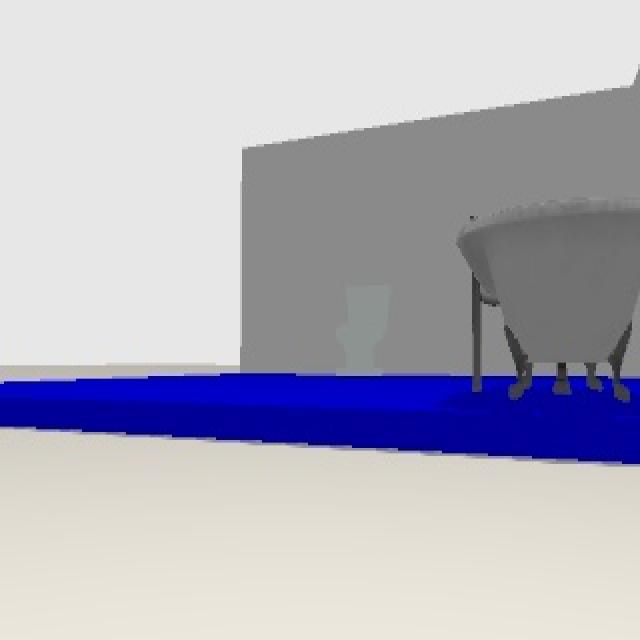bathtub: (457, 192, 640, 401)
